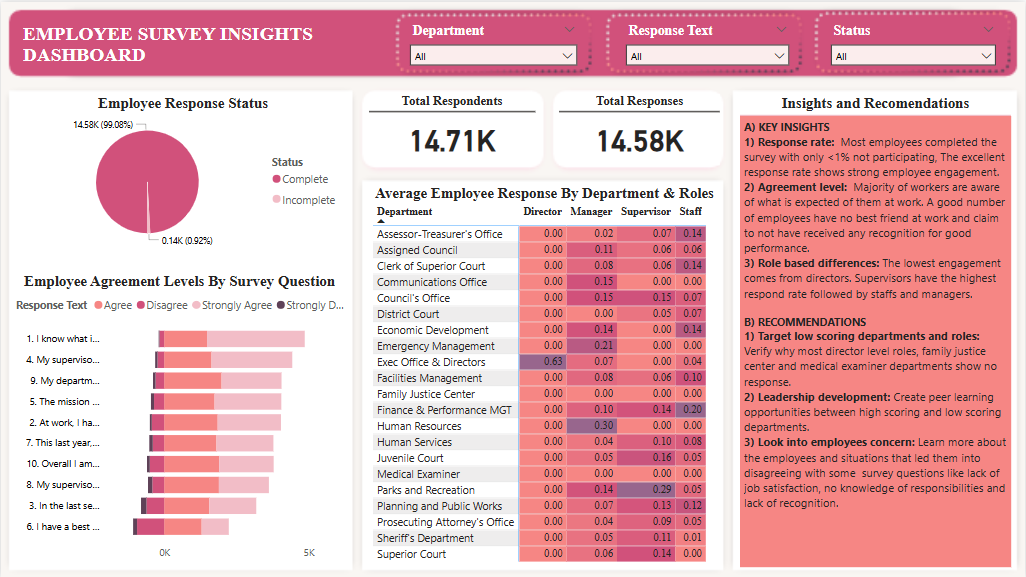

This screenshot's page, from the dashboard's own definition file:
{"tool":"powerbi","page":{"name":"Page 1","canvas":[1280,720],"ordinal":0},"visuals":[{"type":"barChart","title":"Employee Agreement Levels By Survey Question","fields":{"Category":["HR Survey Reponses.Question"],"Y":["Sum(HR Survey Reponses.Net agreement)"],"Series":["HR Survey Reponses.Response Text"]},"box":[13.8,337.5,418.8,368.8],"z":0},{"type":"pivotTable","title":"Average Employee Response By Department & Roles","fields":{"Rows":["HR Survey Reponses.Department"],"Values":["Avg(HR Survey Reponses.Director)","Avg(HR Survey Reponses.Manager)","Avg(HR Survey Reponses.Supervisor)","Avg(HR Survey Reponses.Staff)"]},"box":[460,227.5,438.8,478.8],"z":1000},{"type":"slicer","fields":{"Values":["HR Survey Reponses.Department"]},"box":[501.2,21.2,228.8,60],"z":2000},{"type":"slicer","fields":{"Values":["HR Survey Reponses.Response Text"]},"box":[771.2,21.2,223.8,60],"z":3000},{"type":"slicer","fields":{"Values":["HR Survey Reponses.Status"]},"box":[1027.5,21.2,226.2,60],"z":4000},{"type":"card","title":"Total Responses","fields":{"Values":["CountNonNull(HR Survey Reponses.Response)"]},"box":[697.5,115,201.2,88.8],"z":5000},{"type":"card","title":"Total Respondents","fields":{"Values":["CountNonNull(HR Survey Reponses.Response ID)"]},"box":[460,115,207.5,88.8],"z":6000},{"type":"shape","title":"Insights and Recomendations","box":[923.8,115,338.8,591.2],"z":7000},{"type":"textbox","box":[22.5,21.2,458.8,70],"z":7001},{"type":"textbox","box":[923.8,142.5,338.8,563.8],"z":7002},{"type":"pieChart","title":"Employee Response Status","fields":{"Category":["HR Survey Reponses.Status"],"Y":["CountNonNull(HR Survey Reponses.Response ID)"]},"box":[22.5,115,410,198.8],"z":7003}]}

Visuals, with their boxes in screenshot pixels (x1, y1, x2, y2), scaled from the page's 1280x720 canvas onto the 1026x577 screenshot:
"Employee Agreement Levels By Survey Question" barChart: <bbox>11, 270, 347, 566</bbox>
"Average Employee Response By Department & Roles" pivotTable: <bbox>369, 182, 720, 566</bbox>
slicer - HR Survey Reponses.Department: <bbox>402, 17, 585, 65</bbox>
slicer - HR Survey Reponses.Response Text: <bbox>618, 17, 798, 65</bbox>
slicer - HR Survey Reponses.Status: <bbox>824, 17, 1005, 65</bbox>
"Total Responses" card: <bbox>559, 92, 720, 163</bbox>
"Total Respondents" card: <bbox>369, 92, 535, 163</bbox>
"Insights and Recomendations" shape: <bbox>740, 92, 1012, 566</bbox>
textbox: <bbox>18, 17, 386, 73</bbox>
textbox: <bbox>740, 114, 1012, 566</bbox>
"Employee Response Status" pieChart: <bbox>18, 92, 347, 251</bbox>
